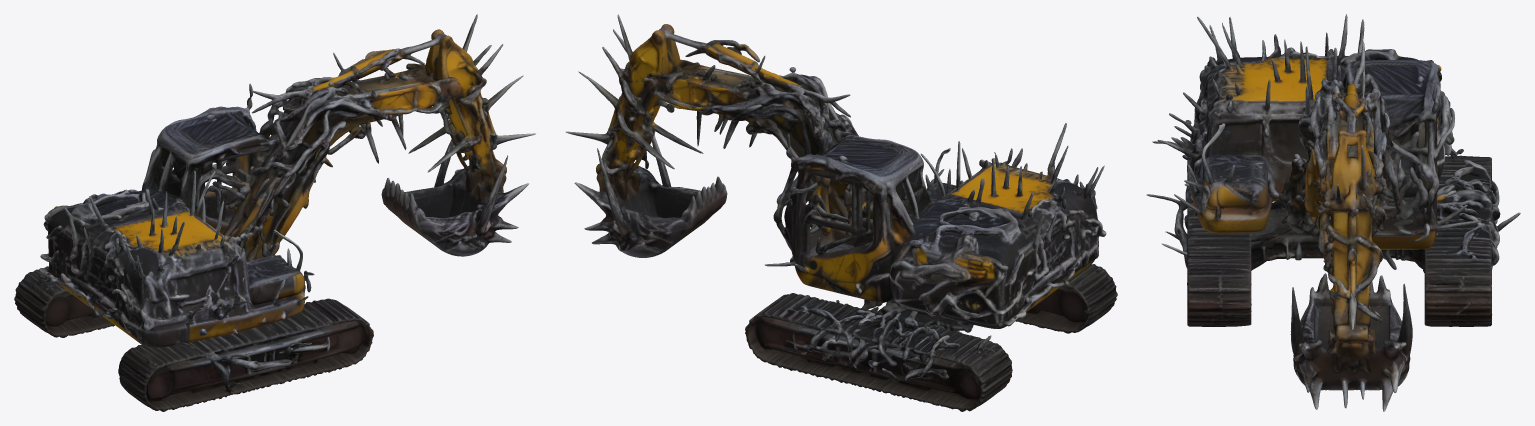
Rendered from infrastructure-more-negative.glb.
The picture shows the model from 3 angles, left to right: view 1: azimuth 30°, elevation 25°; view 2: azimuth 150°, elevation 25°; view 3: azimuth 270°, elevation 25°; orthographic projection. The views are drawn at different scales.
Parts seen in each view (by area): view 1: tripo_node_a322c9f3-7785-43e3-96fc-19a742b128e3; view 2: tripo_node_a322c9f3-7785-43e3-96fc-19a742b128e3; view 3: tripo_node_a322c9f3-7785-43e3-96fc-19a742b128e3.
Boxes of the visible parts, left/top/right/bottom form: tripo_node_a322c9f3-7785-43e3-96fc-19a742b128e3: left=14, top=14, right=535, bottom=411; tripo_node_a322c9f3-7785-43e3-96fc-19a742b128e3: left=566, top=14, right=1117, bottom=411; tripo_node_a322c9f3-7785-43e3-96fc-19a742b128e3: left=1146, top=14, right=1520, bottom=411.
Bounding box in the file's own units: 1 × 0.5131 × 0.59.
Materials: 1 (1 with a texture image).
